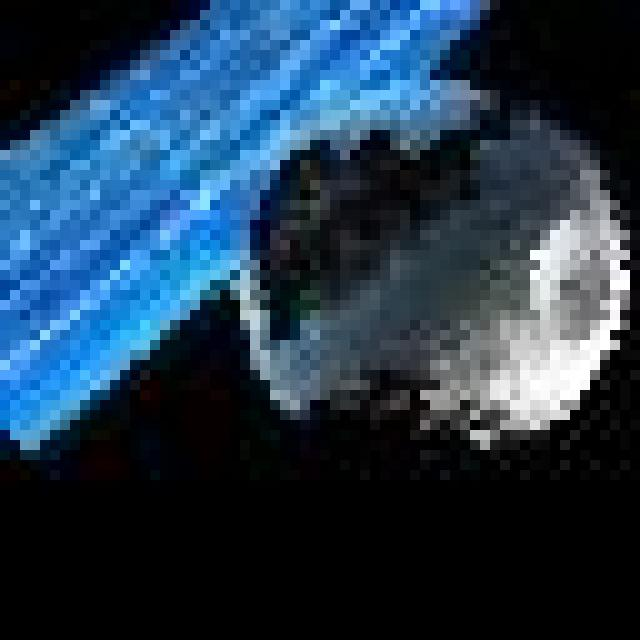Death Star: (248, 74, 635, 470)
